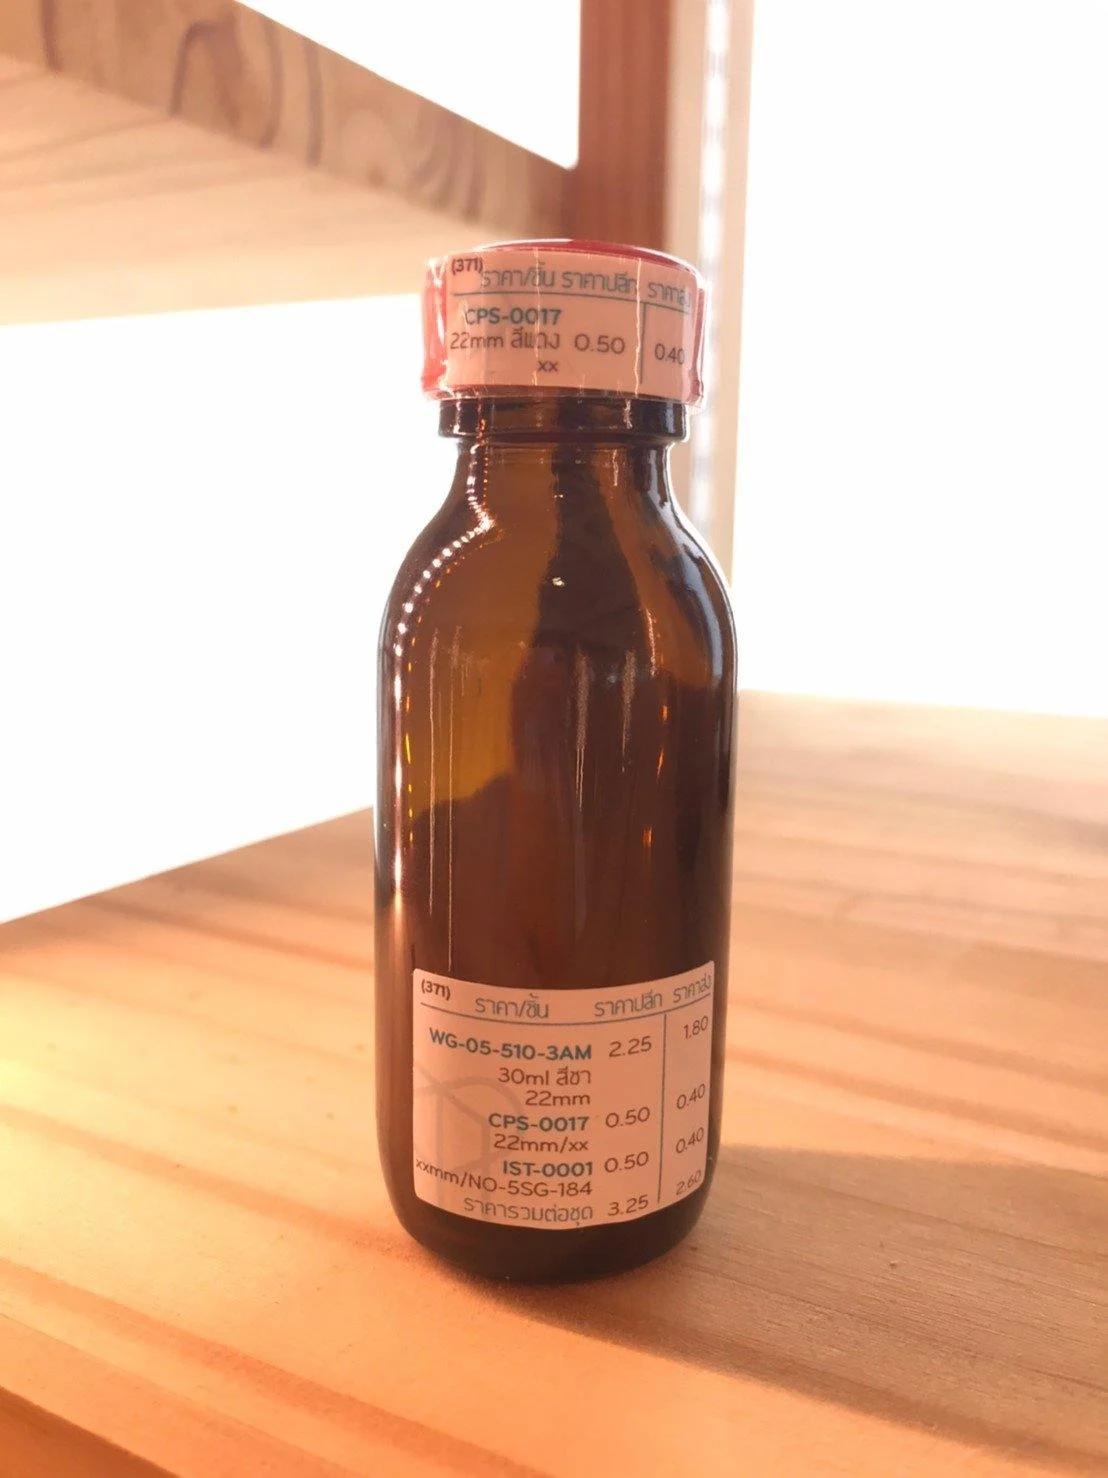glass_bottle: (320, 207, 767, 1309)
